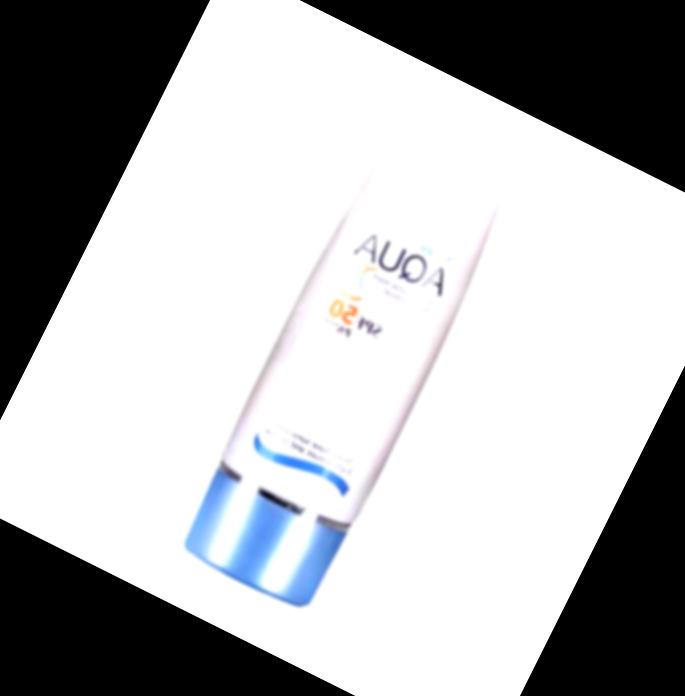cosmetic: (171, 105, 528, 615)
